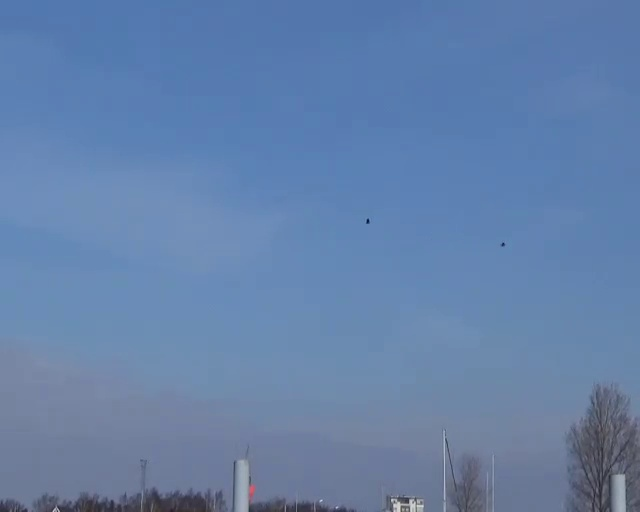BIRD: (497, 240, 504, 248)
